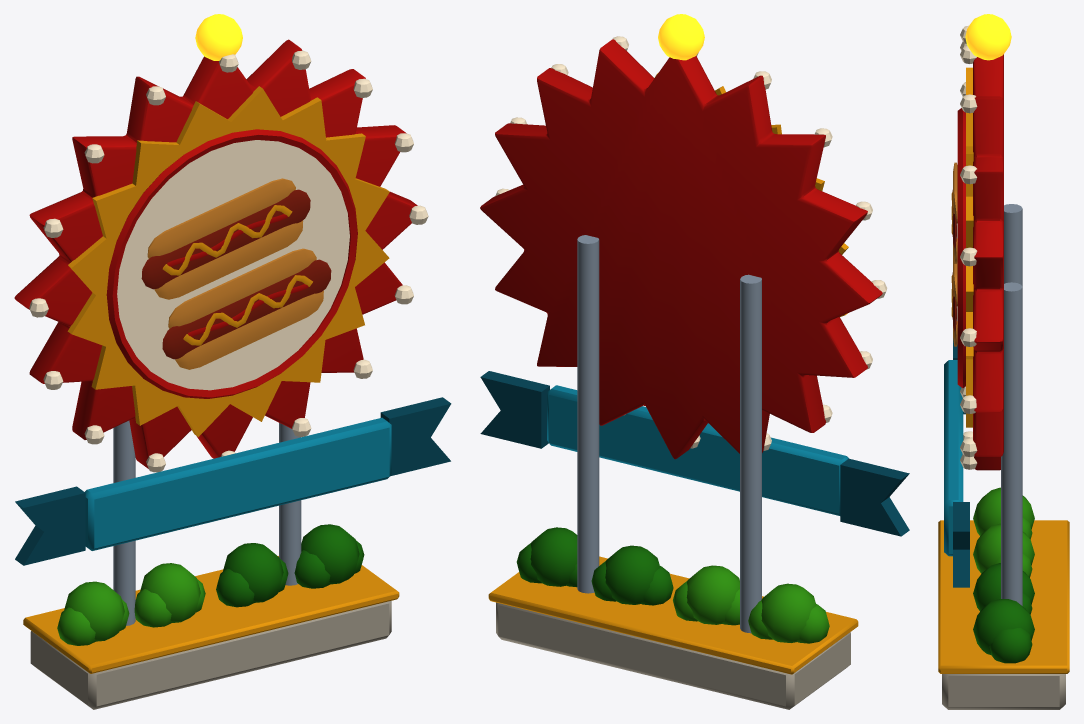
File: BogoSign.fbx
3 views of the same model, side by side, from view 1: azimuth 30°, elevation 25°; view 2: azimuth 150°, elevation 25°; view 3: azimuth 270°, elevation 25° (orthographic). The views are drawn at different scales.
Visible parts, largest first — view 1: BogoSign; view 2: BogoSign; view 3: BogoSign.
Boxes of the visible parts, left/top/right/bottom form: BogoSign: left=14, top=14, right=451, bottom=709; BogoSign: left=480, top=14, right=909, bottom=709; BogoSign: left=938, top=14, right=1069, bottom=709.
Size of the model in its own units: 6.2 by 8.9 by 1.7.
